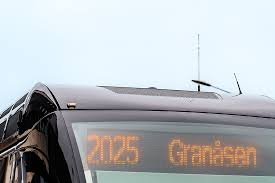bus: (1, 80, 275, 183)
